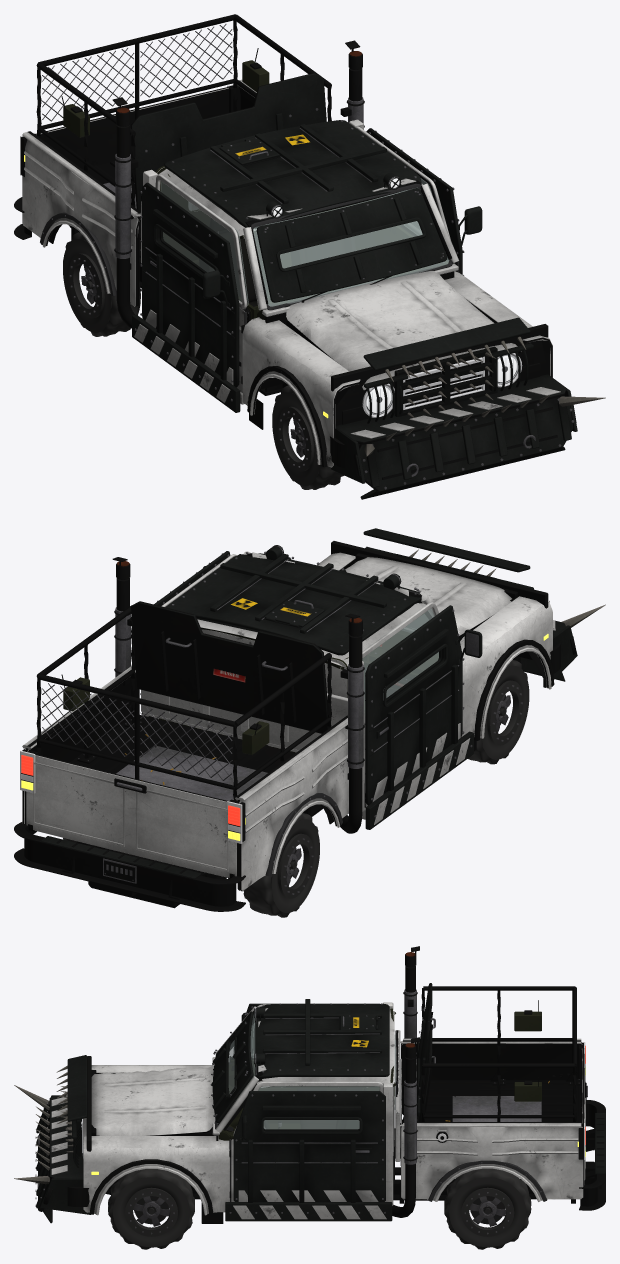
The picture shows the model from 3 angles, top to bottom: view 1: azimuth 30°, elevation 25°; view 2: azimuth 150°, elevation 25°; view 3: azimuth 270°, elevation 25°; orthographic projection. The views are drawn at different scales.
Parts seen in each view (by area): view 1: body, panel_bumper_F, panel_armor_roof, panel_armor_R, panel_hood, panel_armor_windshield, panel_fender_R, wheel_RR, wheel_FR, panel_tailgate, panel_door_R, panel_armor_L (+2 smaller); view 2: body, panel_tailgate, panel_armor_roof, panel_armor_R, panel_bumper_R, panel_fender_R, panel_hood, wheel_RR, wheel_FR, panel_door_R, panel_bumper_F, panel_armor_L; view 3: body, panel_armor_L, panel_armor_roof, panel_hood, panel_fender_L, wheel_RL, wheel_FL, panel_bumper_F, panel_armor_windshield, panel_door_L, panel_bumper_R, panel_fender_R (+1 smaller).
Boxes of the visible parts, x1,y1,x2,y2 form: body: (20,14,548,425); panel_bumper_F: (330,374,605,499); panel_armor_roof: (164,120,421,228); panel_armor_R: (140,182,239,387); panel_hood: (286,271,521,390); panel_armor_windshield: (256,188,447,302); panel_fender_R: (242,317,360,467); wheel_RR: (63,232,140,336); wheel_FR: (272,385,344,489); panel_tailgate: (35,87,228,168); panel_door_R: (155,174,251,392); panel_armor_L: (366,128,482,275); body: (20,528,548,908); panel_tailgate: (26,754,237,878); panel_armor_roof: (166,545,421,655); panel_armor_R: (365,605,482,805); panel_bumper_R: (14,822,245,911); panel_fender_R: (460,596,554,751); panel_hood: (345,557,511,636); wheel_RR: (243,813,319,917); wheel_FR: (467,660,529,764); panel_door_R: (362,602,438,807); panel_bumper_F: (520,601,605,687); panel_armor_L: (140,551,230,713); body: (56,946,601,1221); panel_armor_L: (233,1091,385,1202); panel_armor_roof: (254,999,389,1079); panel_hood: (83,1066,215,1142); panel_fender_L: (83,1136,229,1223); wheel_RL: (444,1168,531,1249); wheel_FL: (108,1169,194,1249); panel_bumper_F: (14,1085,90,1223); panel_armor_windshield: (210,1011,253,1123); panel_door_L: (229,1081,382,1201); panel_bumper_R: (579,1100,605,1210); panel_fender_R: (91,1065,212,1073).
Bounding box in the file's own units: 2.61 × 2.42 × 5.99.
22 materials, 14 textured.
